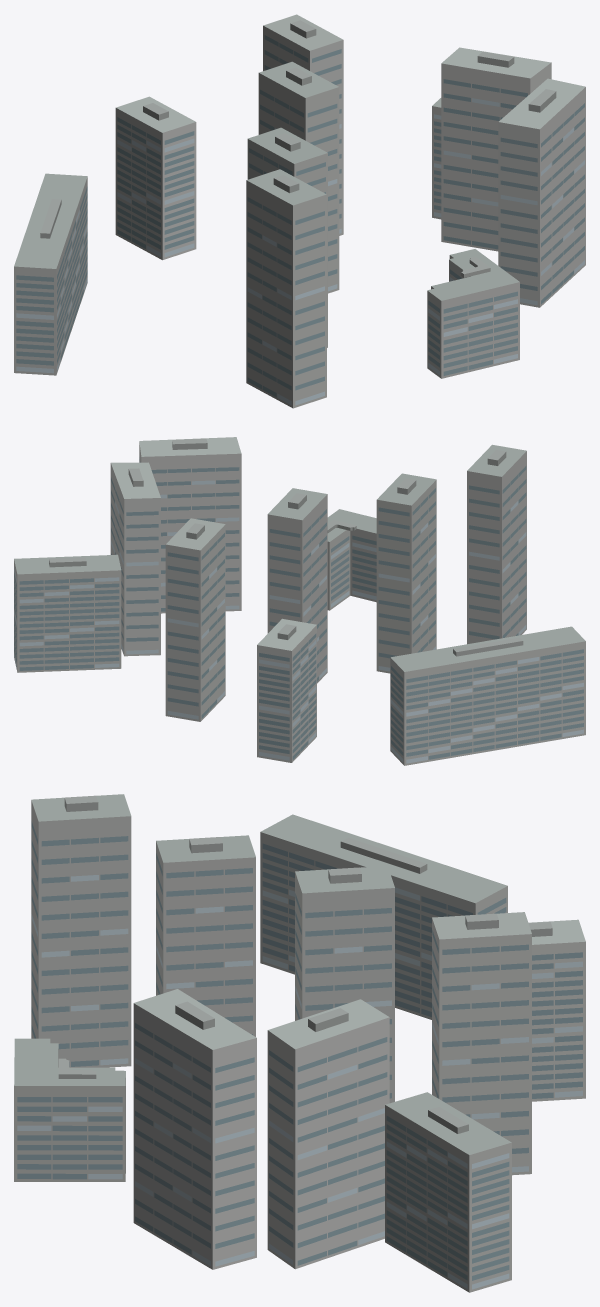
The model's file is apt-a10024470.glb.
3 views of the same model, one above another, from view 1: azimuth 30°, elevation 25°; view 2: azimuth 150°, elevation 25°; view 3: azimuth 270°, elevation 25° (orthographic). The views are drawn at different scales.
Parts seen in each view (by area): view 1: apt-a10024470; view 2: apt-a10024470; view 3: apt-a10024470.
Part boxes in pixels (bbox=[...]): apt-a10024470: bbox=[14, 14, 585, 408]; apt-a10024470: bbox=[14, 437, 585, 765]; apt-a10024470: bbox=[14, 794, 585, 1292].
Size of the model in its own units: 222 by 77 by 155.
